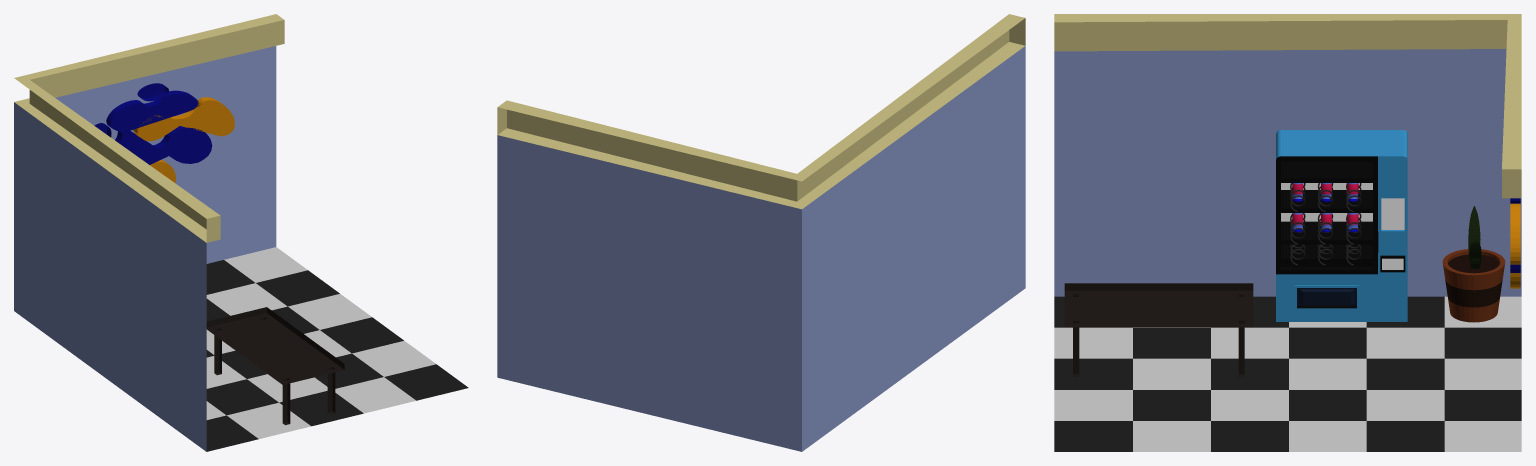
File: Allanim0014.obj
3 views of the same model, side by side, from view 1: azimuth 30°, elevation 25°; view 2: azimuth 150°, elevation 25°; view 3: azimuth 270°, elevation 25° (orthographic). The views are drawn at different scales.
Parts seen in each view (by area): view 1: ruangan_Cube.003, meja_Cube.004, logo.001_Circle.019, logo_Circle.006, logo.005_Circle.023; view 2: ruangan_Cube.003; view 3: ruangan_Cube.003, vending_machine_Cube.001, meja_Cube.004, pot_bunga_Cylinder, per_second\_Spiral.010, Plane.007, logo_Circle.006.
Boxes of the visible parts, left/top/right/bottom form: ruangan_Cube.003: left=14, top=14, right=468, bottom=451; meja_Cube.004: left=206, top=307, right=344, bottom=425; logo.001_Circle.019: left=115, top=126, right=212, bottom=164; logo_Circle.006: left=133, top=97, right=234, bottom=141; logo.005_Circle.023: left=106, top=90, right=198, bottom=133; ruangan_Cube.003: left=497, top=14, right=1025, bottom=451; ruangan_Cube.003: left=1054, top=14, right=1521, bottom=451; vending_machine_Cube.001: left=1276, top=130, right=1407, bottom=321; meja_Cube.004: left=1064, top=283, right=1253, bottom=377; pot_bunga_Cylinder: left=1442, top=249, right=1505, bottom=322; per_second\_Spiral.010: left=1290, top=183, right=1361, bottom=265; Plane.007: left=1468, top=206, right=1481, bottom=268; logo_Circle.006: left=1510, top=203, right=1520, bottom=264.
Size of the model in its own units: 11.73 by 9.95 by 14.9.
